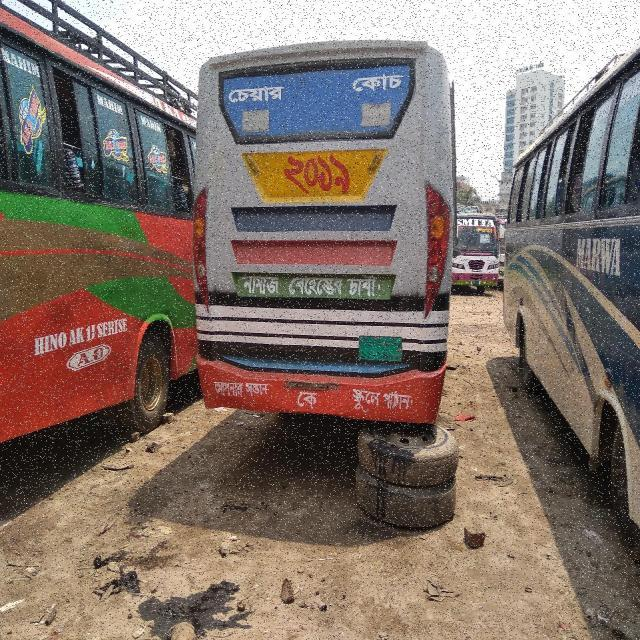numberplate: (354, 332, 412, 366)
